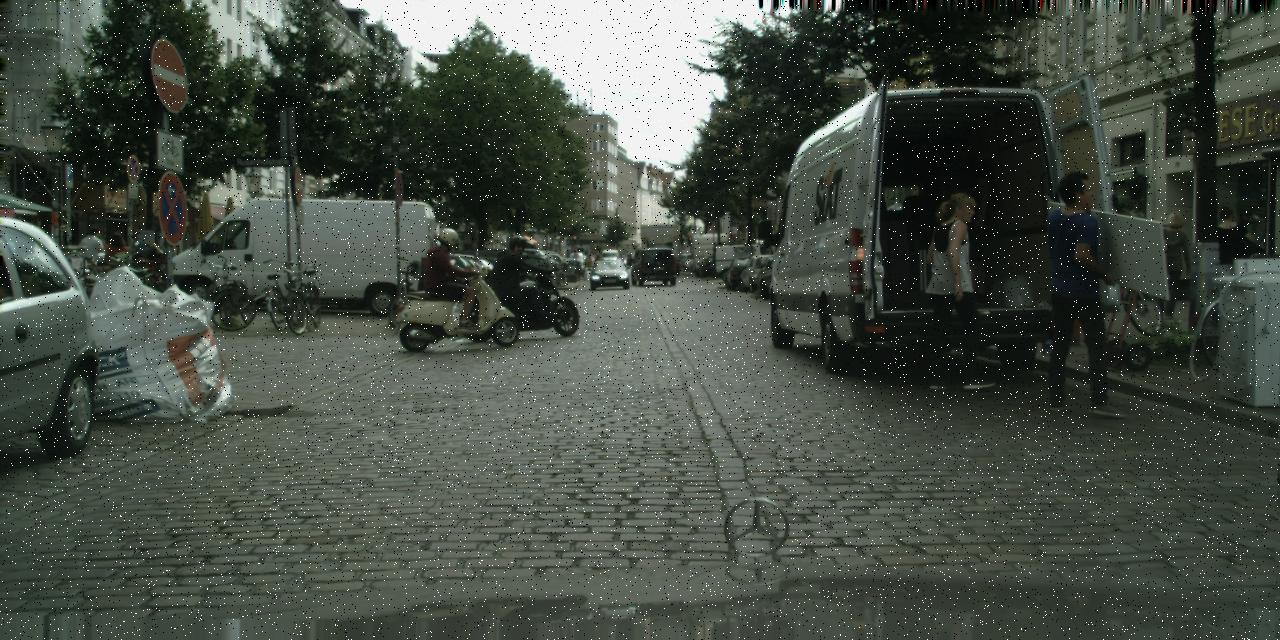ped: (1028, 171, 1126, 412), (916, 192, 996, 388), (932, 135, 1001, 303), (1148, 210, 1190, 318), (1207, 206, 1249, 311), (434, 227, 470, 316), (502, 234, 537, 319), (78, 228, 105, 294), (104, 232, 129, 296), (625, 254, 633, 273), (594, 254, 599, 270)
